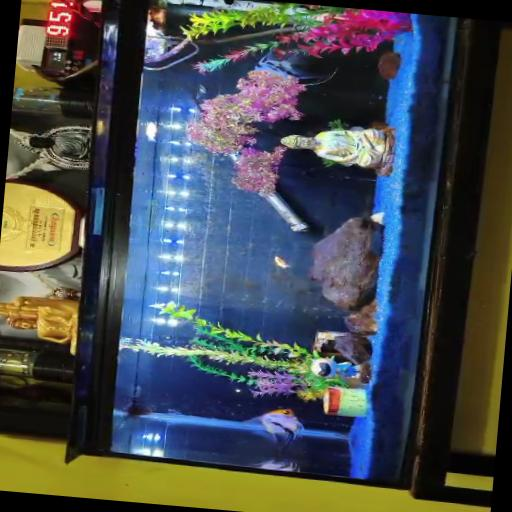Fish: (254, 51, 335, 84), (245, 408, 303, 445), (256, 459, 300, 471), (275, 256, 290, 268), (199, 84, 206, 93)
